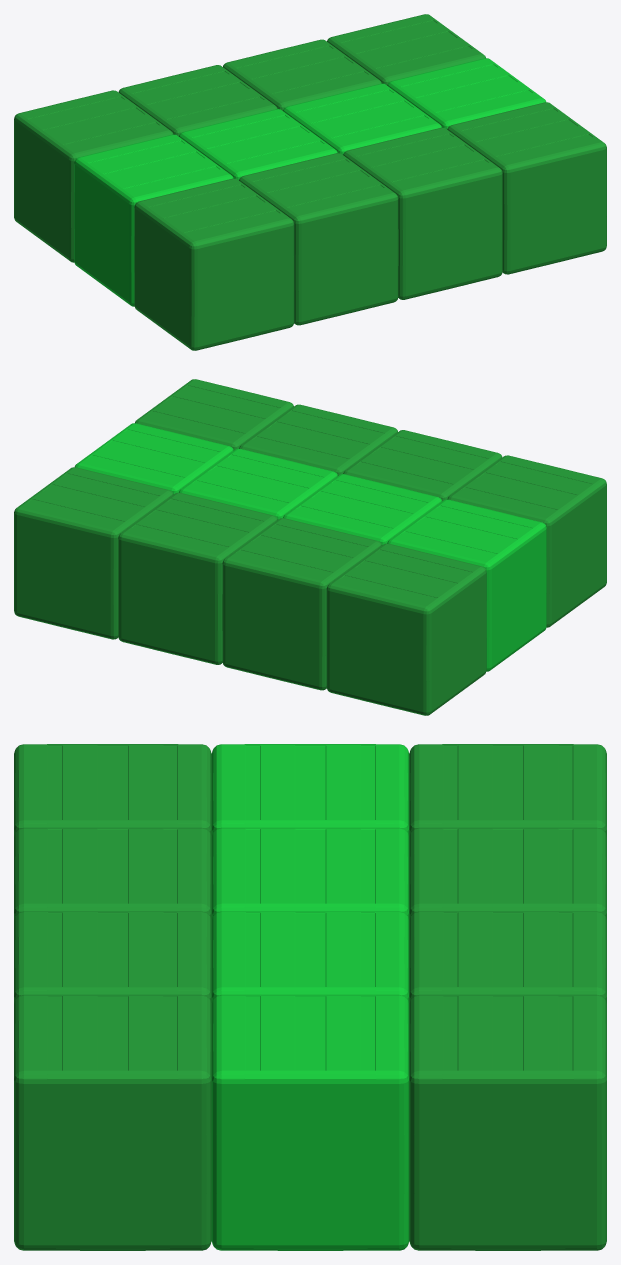
3 views of the same model, one above another, from view 1: azimuth 30°, elevation 25°; view 2: azimuth 150°, elevation 25°; view 3: azimuth 270°, elevation 25° (orthographic). The views are drawn at different scales.
Parts seen in each view (by area): view 1: Cube.005, Cube.003, Cube.004; view 2: Cube.004, Cube.003, Cube.005; view 3: Cube.003, Cube.004, Cube.005.
Boxes of the visible parts, x1,y1,x2,y2 form: Cube.005: (134,102,606,350); Cube.003: (74,58,546,306); Cube.004: (14,14,485,262); Cube.004: (14,467,486,715); Cube.003: (74,423,546,671); Cube.005: (135,379,606,627); Cube.003: (211,744,409,1250); Cube.004: (409,744,606,1250); Cube.005: (14,744,211,1250).
Size of the model in its own units: 1600 by 400 by 1200.
